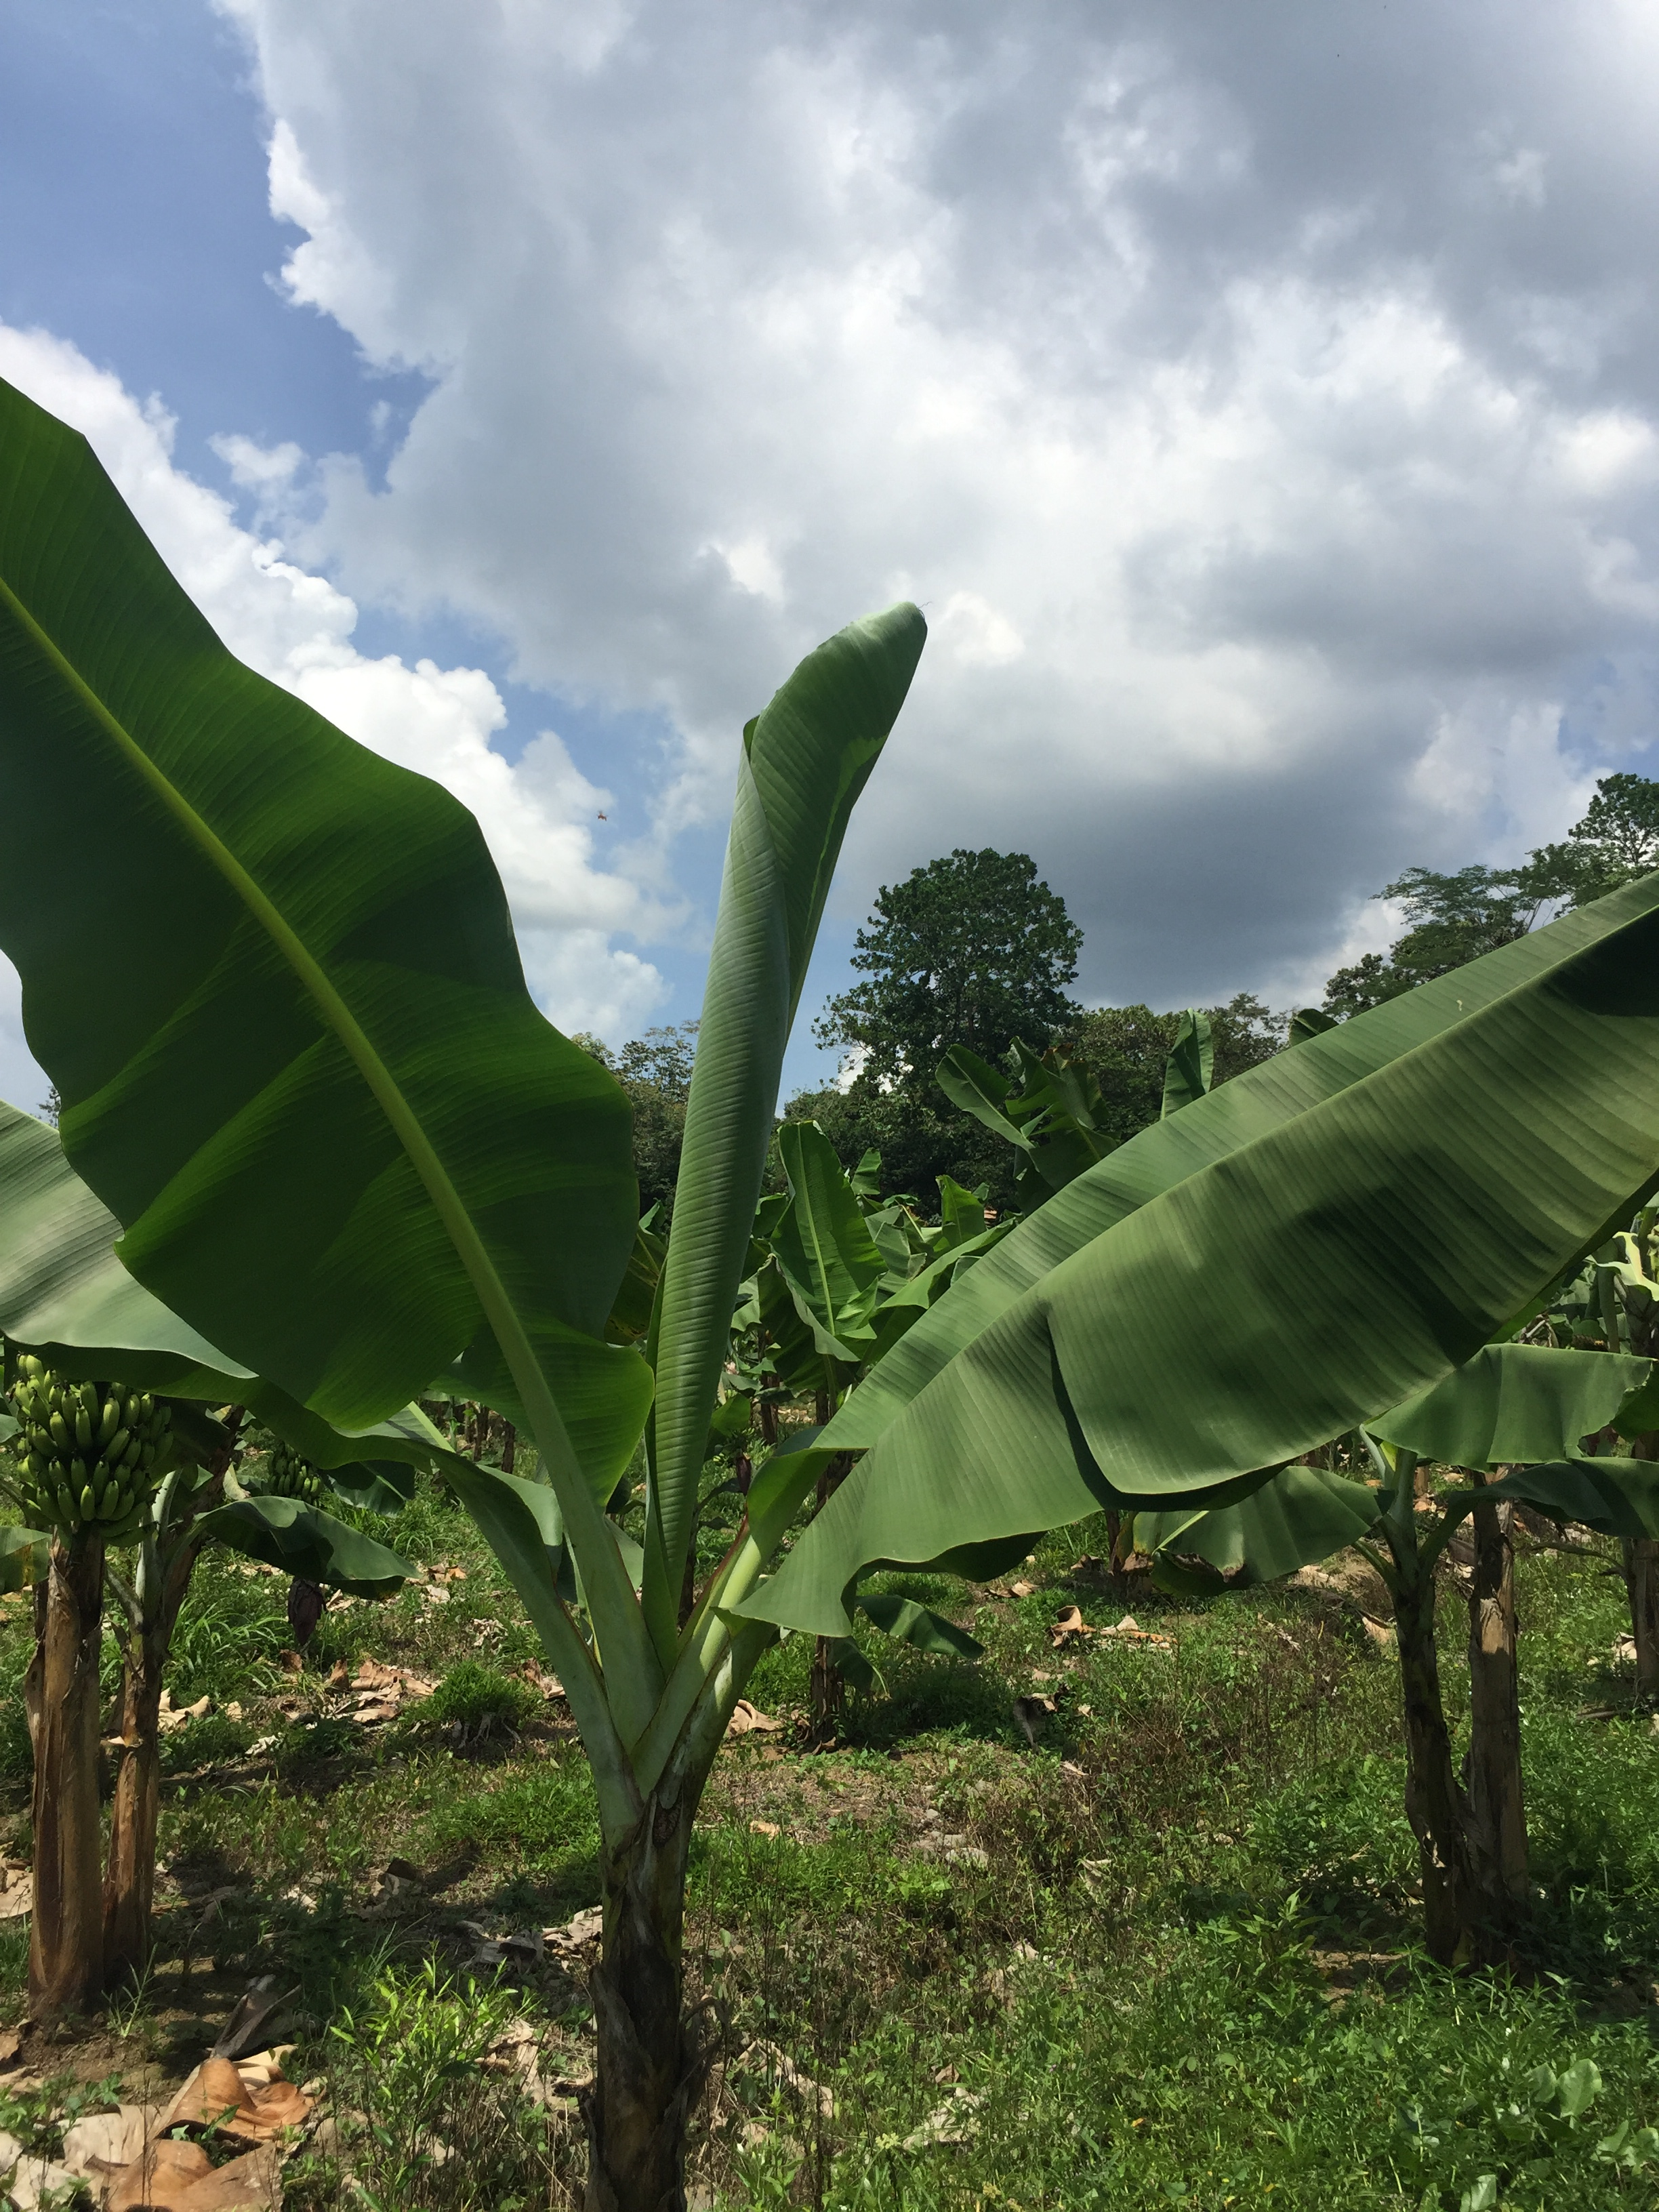candleleafs: (645, 606, 929, 1695)
